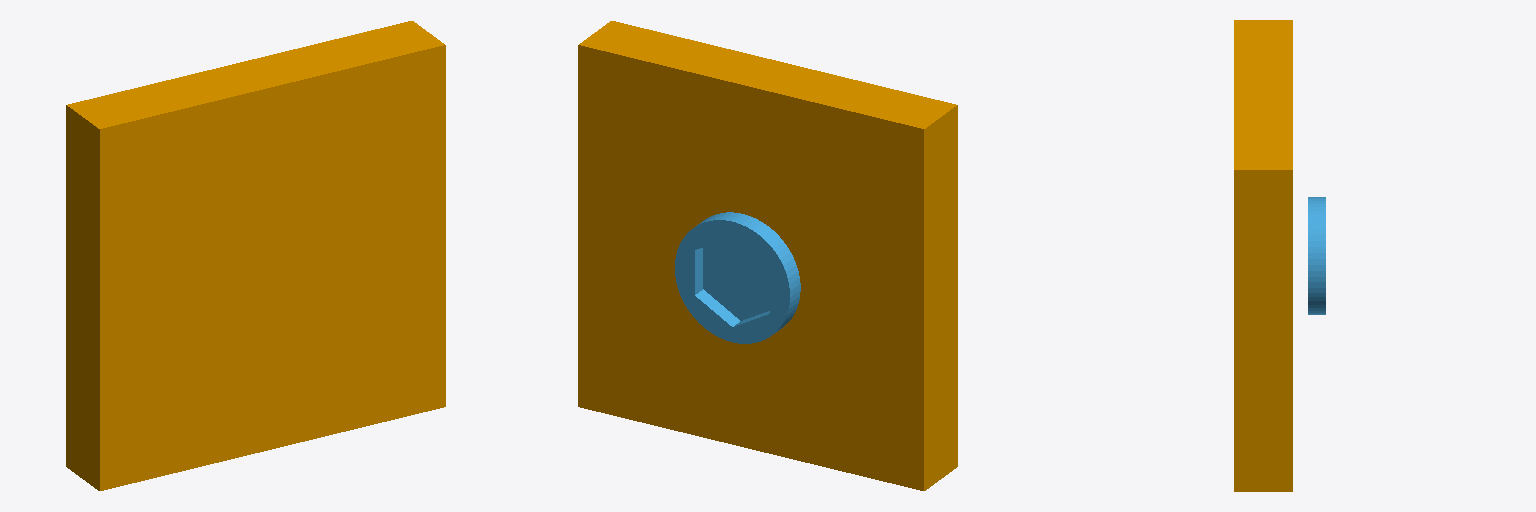
URDF robot description (hex_screw_base):
<?xml version="1.0"?>
<robot name="hex_screw_base">

  <link name="base">
    <visual>
      <origin xyz="0 0.01 0" rpy="0 0 0"/>
      <geometry>
        <box size="0.12 0.02 0.12"/>
      </geometry>
    </visual>	
    <collision>
      <origin xyz="0 0.01 0" rpy="0 0 0"/>
      <geometry>
        <box size="0.12 0.02 0.12"/>
      </geometry>
    </collision>
  </link>

  <link name="screw">
    <visual>
      <origin xyz="0 0 0" rpy="0 0 0"/>
      <geometry>
        <mesh filename="hex_screw/screw_head.obj" scale="0.001000 0.001000 0.001000"/>
      </geometry>
    </visual>	
    <collision>
      <origin xyz="0 0 0" rpy="0 0 0"/>
      <geometry>
        <mesh filename="hex_screw/screw_head.obj" scale="0.001000 0.001000 0.001000"/>
      </geometry>
    </collision>
  </link>

  <joint name="screw_to_base" type="revolute">
    <parent link="base"/>
    <child link="screw"/>
    <origin xyz="0 0.025 0"/>
    <axis xyz="0 1 0"/>
    <limit lower="-3.14" upper="3.14" effort="100" velocity="3"/>
  </joint>

</robot>

--- What the picture shows (computed from the rendered views, not written in the file) ---
3 views of the same robot in one strip: view 1: azimuth 30°, elevation 25°; view 2: azimuth 150°, elevation 25°; view 3: azimuth 270°, elevation 25° (orthographic).
Robot: hex_screw_base — 2 links, 1 joints (1 revolute); root link base; default pose: all joints at 0.
Links seen in each view (by area): view 1: base; view 2: base, screw; view 3: base, screw.
Boxes of the visible links, <box> form: base: <box>66,21,445,490</box>; base: <box>578,21,957,490</box>; screw: <box>675,212,800,343</box>; base: <box>1234,20,1292,491</box>; screw: <box>1308,197,1325,314</box>.
Size in the robot's own frame: 0.12 by 0.0314 by 0.12 metres.
1 mesh visuals loaded from 1 distinct referenced files (1 OBJ).